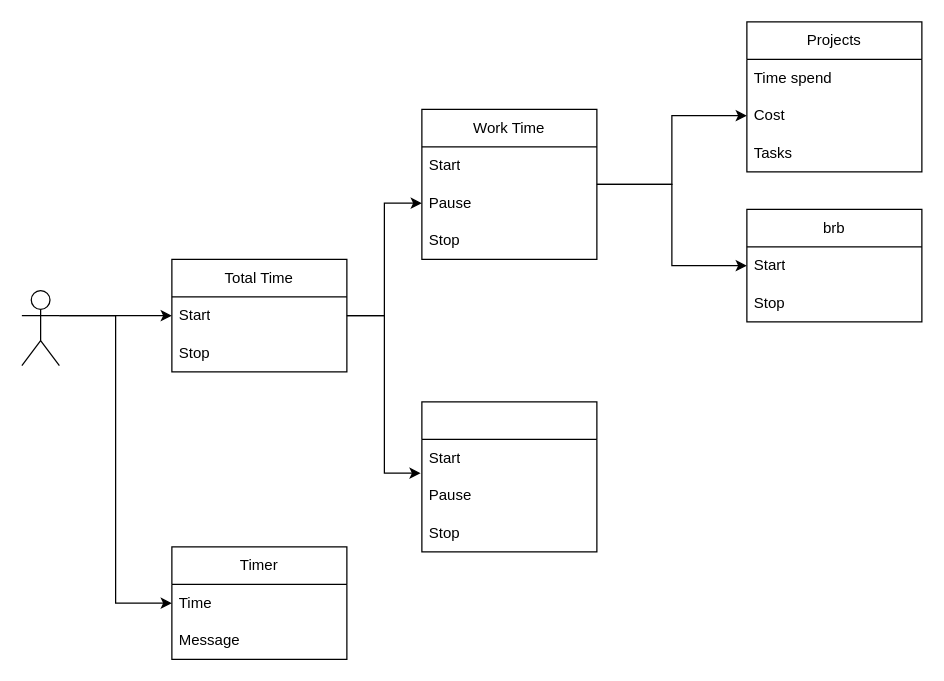
This 944x681 diagram has some shape labels left out. The box of each missing label's shape, as (x1, y1, x2, y2) in pixels:
Actor: (21, 289, 59, 366)
Break Time: (421, 401, 597, 552)
